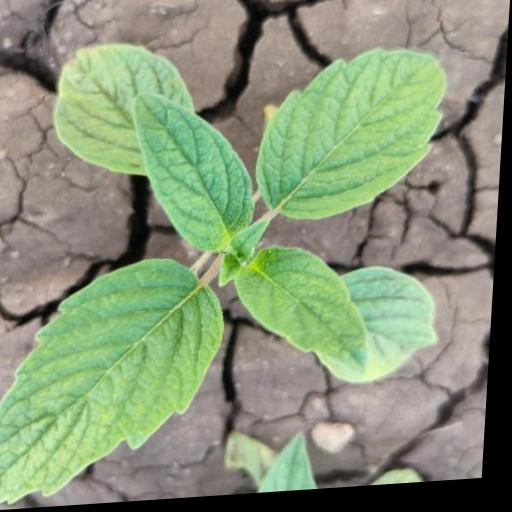crop: (0, 15, 461, 512)
